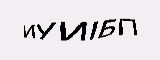А: (90, 29, 116, 57)
Е: (28, 24, 42, 48)
З: (118, 28, 134, 60)
И: (39, 27, 59, 49)
К: (62, 28, 89, 56)
